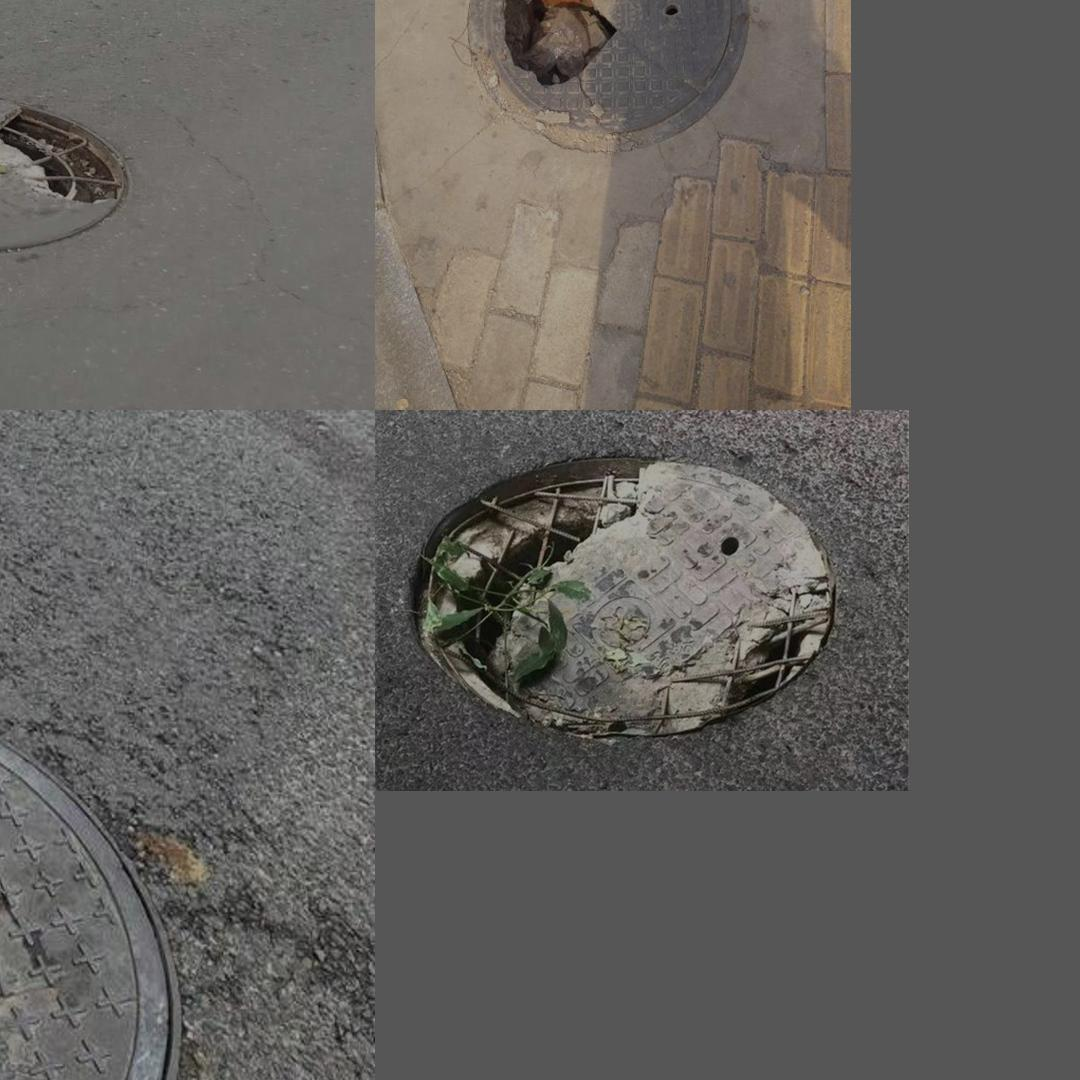broke: (403, 449, 841, 742), (0, 651, 186, 1080), (451, 0, 762, 168), (0, 91, 130, 251)
